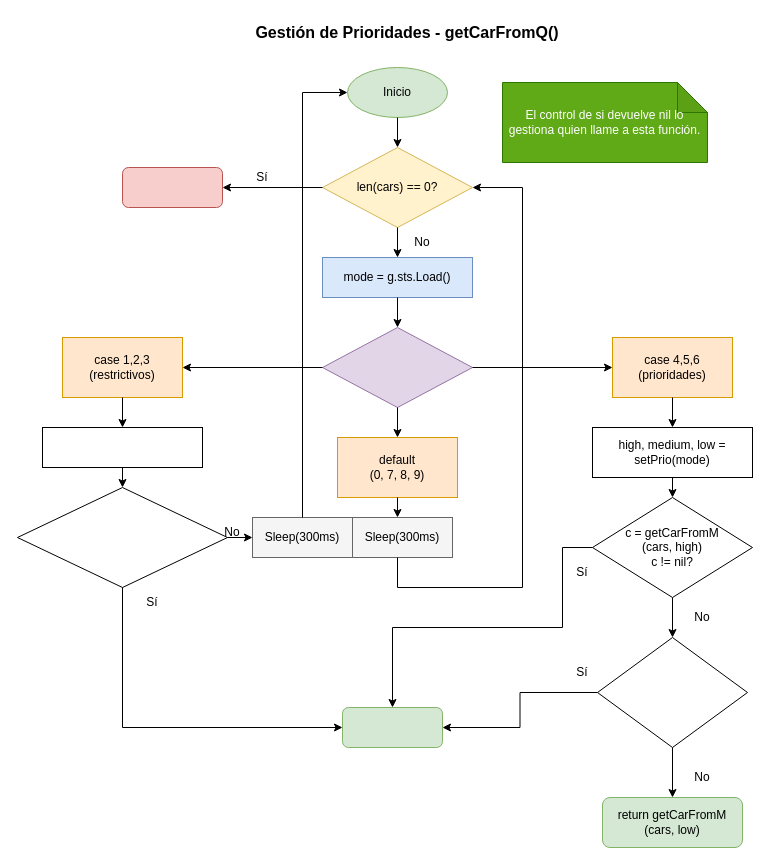
The diagram is 770 pixels wide and 865 high, and some of its shapes have lost their labels. Each missing label, with the centre of its shape:
"c = getCarFromM (cars, medium) c != nil?" goes at [672,692].
"c = getCarFromM(cars, high) c != nil?" goes at [122,537].
"high, _, _ = setPrio(mode)" goes at [122,447].
"return c" goes at [392,727].
"return nil" goes at [172,187].
"switch mode" goes at [397,367].
